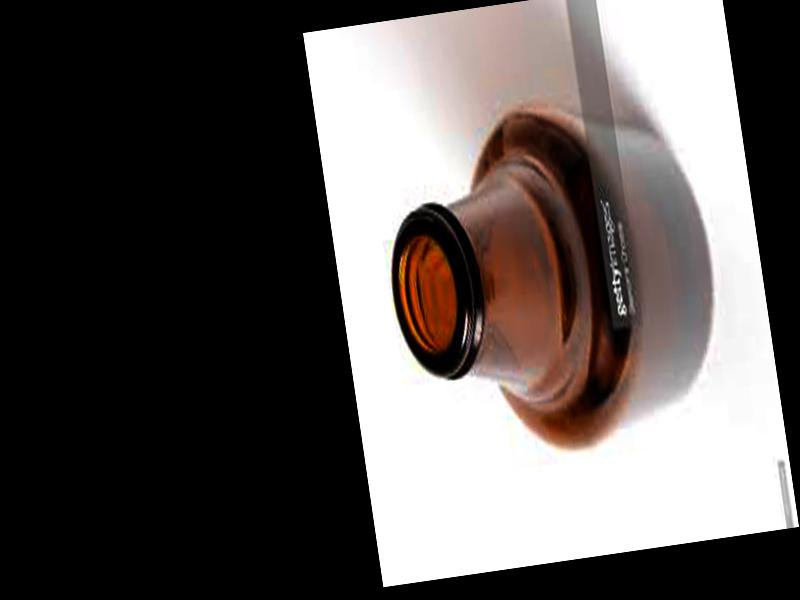Beer: (368, 82, 735, 470)
